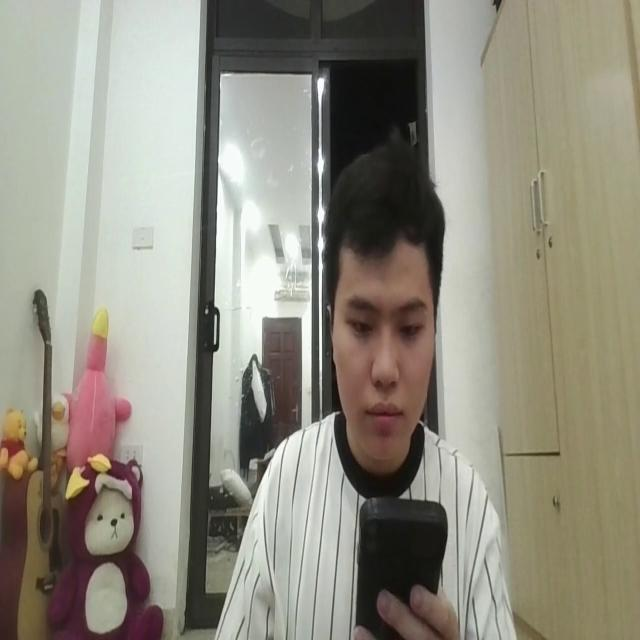phone: (355, 486, 450, 637)
student: (218, 130, 521, 640)
